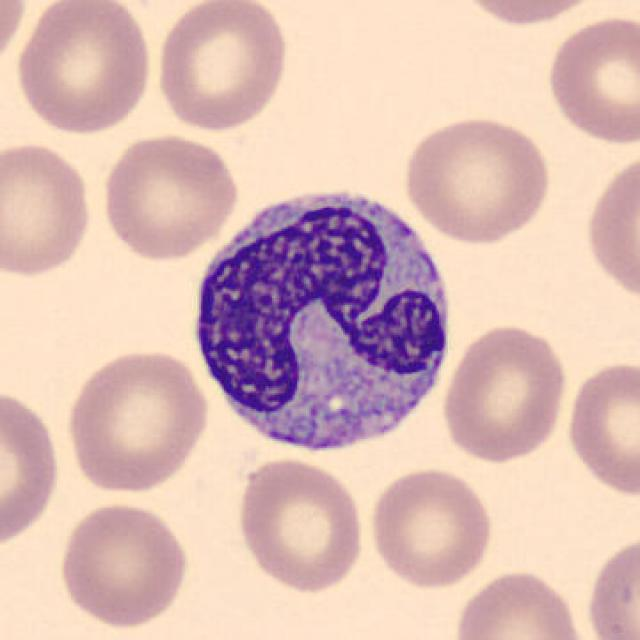Monocyte: (183, 173, 464, 471)
RBC: (62, 344, 212, 495), (400, 111, 555, 245), (12, 0, 156, 136), (439, 319, 571, 466), (96, 130, 242, 262), (233, 455, 368, 596), (151, 0, 292, 134), (55, 499, 192, 631), (364, 464, 496, 590), (0, 137, 96, 280), (542, 11, 640, 148), (562, 356, 638, 501), (0, 382, 64, 554), (450, 566, 594, 640), (582, 147, 638, 310), (583, 530, 638, 640), (450, 0, 608, 30), (0, 2, 30, 76)
